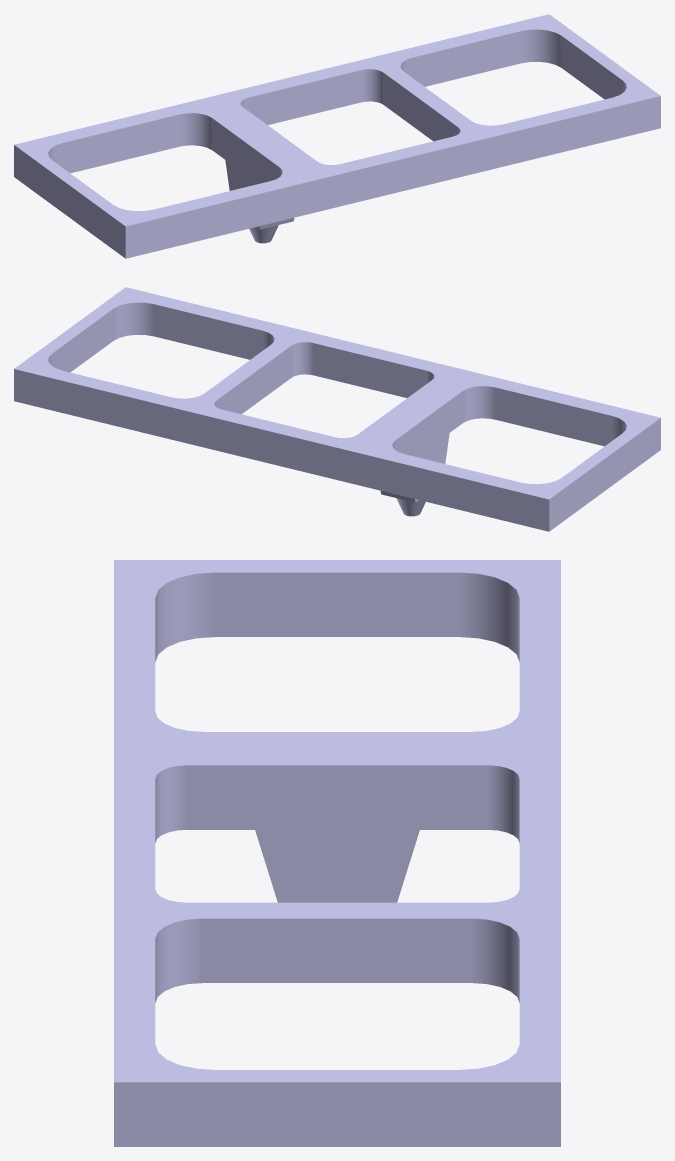
The picture shows the model from 3 angles, top to bottom: view 1: azimuth 30°, elevation 25°; view 2: azimuth 150°, elevation 25°; view 3: azimuth 270°, elevation 25°; orthographic projection. The views are drawn at different scales.
Parts seen in each view (by area): view 1: PartBody; view 2: PartBody; view 3: PartBody.
Boxes of the visible parts, x1,y1,x2,y2 form: PartBody: (14, 14, 660, 258); PartBody: (14, 287, 660, 531); PartBody: (114, 560, 560, 1146).
Size of the model in its own units: 246 by 44.49 by 88.98.
